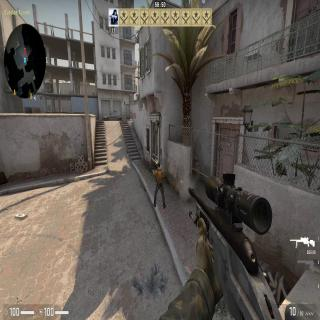T-Body: (153, 161, 166, 209)
T-Head: (158, 162, 160, 169)
